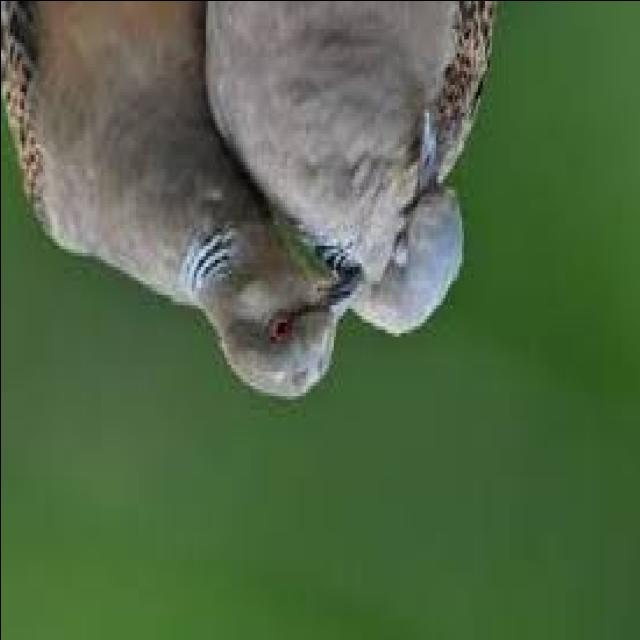pigeon: (190, 0, 510, 360)
